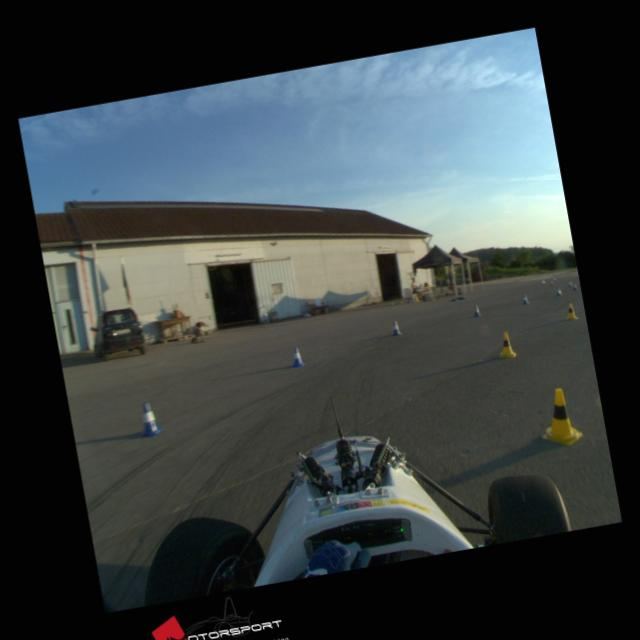blue_cone: (134, 399, 165, 438), (287, 344, 305, 368), (388, 320, 402, 336), (470, 304, 481, 317), (520, 292, 530, 304)
yellow_cone: (533, 384, 584, 450), (494, 330, 517, 360), (562, 302, 579, 322)
